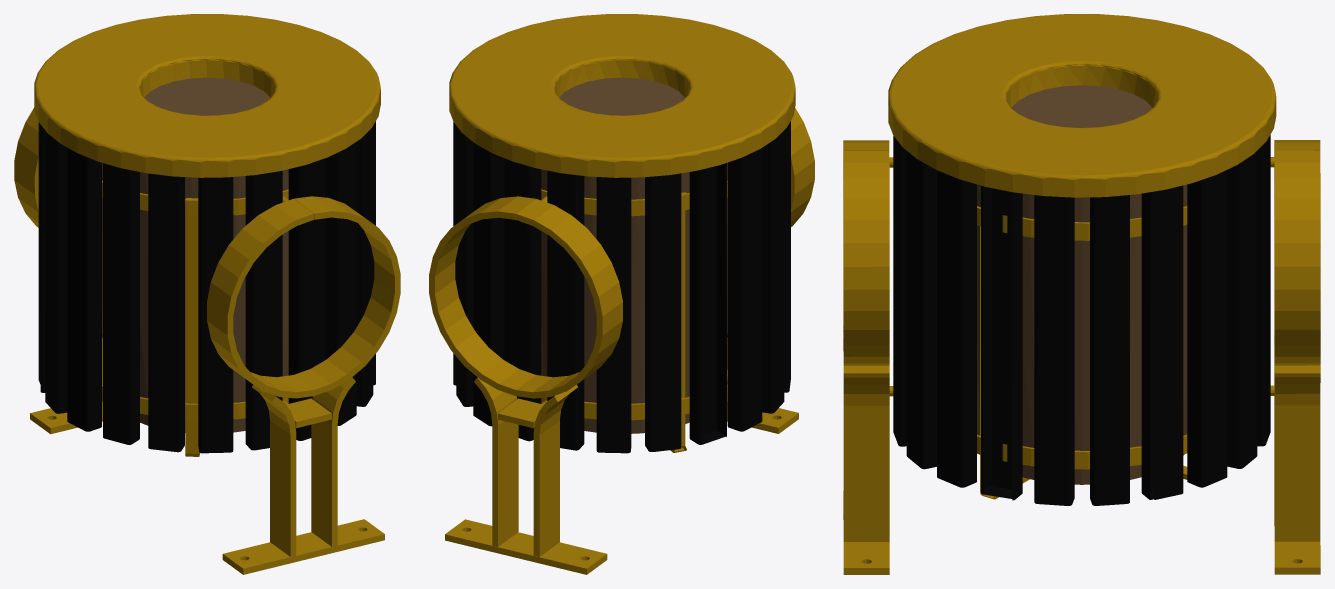
3 views of the same model, side by side, from view 1: azimuth 30°, elevation 25°; view 2: azimuth 150°, elevation 25°; view 3: azimuth 270°, elevation 25° (orthographic). The views are drawn at different scales.
Visible parts, largest first — view 1: mesh27.002_mesh27-geometry, mesh5.003_mesh5-geometry, mesh1.028_mesh1-geometry, mesh1.029_mesh1-geometry, mesh1.030_mesh1-geometry, mesh42.002_mesh42-geometry, mesh1.026_mesh1-geometry, mesh1.027_mesh1-geometry, mesh1.025_mesh1-geometry, mesh1.024_mesh1-geometry, mesh1.031_mesh1-geometry, mesh3.003_mesh3-geometry (+10 smaller); view 2: mesh27.002_mesh27-geometry, mesh5.004_mesh5-geometry, mesh42.002_mesh42-geometry, mesh1.032_mesh1-geometry, mesh1.033_mesh1-geometry, mesh1.031_mesh1-geometry, mesh1.035_mesh1-geometry, mesh1.034_mesh1-geometry, mesh1.036_mesh1-geometry, mesh1.037_mesh1-geometry, mesh1.030_mesh1-geometry, mesh4.004_mesh4-geometry (+11 smaller); view 3: mesh27.002_mesh27-geometry, mesh42.002_mesh42-geometry, mesh1.039_mesh1-geometry, mesh1.022_mesh1-geometry, mesh1.021_mesh1-geometry, mesh1.038_mesh1-geometry, mesh1.040_mesh1-geometry, mesh1.023_mesh1-geometry, mesh5.004_mesh5-geometry, mesh5.003_mesh5-geometry, mesh1.024_mesh1-geometry, mesh1.037_mesh1-geometry (+8 smaller).
Boxes of the visible parts, x1,y1,x2,y2 form: mesh27.002_mesh27-geometry: [34, 14, 380, 177]; mesh5.003_mesh5-geometry: [207, 196, 400, 398]; mesh1.028_mesh1-geometry: [148, 173, 184, 452]; mesh1.029_mesh1-geometry: [103, 163, 139, 444]; mesh1.030_mesh1-geometry: [67, 148, 101, 431]; mesh42.002_mesh42-geometry: [102, 77, 288, 432]; mesh1.026_mesh1-geometry: [245, 170, 282, 450]; mesh1.027_mesh1-geometry: [198, 177, 233, 453]; mesh1.025_mesh1-geometry: [288, 158, 325, 440]; mesh1.024_mesh1-geometry: [325, 142, 356, 425]; mesh1.031_mesh1-geometry: [45, 131, 67, 413]; mesh3.003_mesh3-geometry: [252, 384, 296, 556]; mesh27.002_mesh27-geometry: [449, 14, 795, 177]; mesh5.004_mesh5-geometry: [429, 196, 622, 398]; mesh42.002_mesh42-geometry: [541, 77, 727, 433]; mesh1.032_mesh1-geometry: [689, 163, 726, 444]; mesh1.033_mesh1-geometry: [645, 173, 681, 451]; mesh1.031_mesh1-geometry: [727, 148, 762, 431]; mesh1.035_mesh1-geometry: [547, 170, 584, 450]; mesh1.034_mesh1-geometry: [596, 177, 631, 453]; mesh1.036_mesh1-geometry: [504, 158, 541, 441]; mesh1.037_mesh1-geometry: [473, 142, 504, 426]; mesh1.030_mesh1-geometry: [762, 130, 784, 413]; mesh4.004_mesh4-geometry: [533, 384, 577, 556]; mesh27.002_mesh27-geometry: [888, 14, 1276, 197]; mesh42.002_mesh42-geometry: [977, 85, 1187, 484]; mesh1.039_mesh1-geometry: [1141, 185, 1183, 499]; mesh1.022_mesh1-geometry: [981, 185, 1022, 500]; mesh1.021_mesh1-geometry: [1034, 195, 1074, 505]; mesh1.038_mesh1-geometry: [1187, 170, 1227, 487]; mesh1.040_mesh1-geometry: [1090, 195, 1129, 505]; mesh1.023_mesh1-geometry: [937, 170, 976, 487]; mesh5.004_mesh5-geometry: [1274, 140, 1320, 365]; mesh5.003_mesh5-geometry: [843, 140, 889, 365]; mesh1.024_mesh1-geometry: [906, 151, 936, 469]; mesh1.037_mesh1-geometry: [1227, 151, 1257, 468].
Bounding box in the file's own units: 0.4951 × 0.6205 × 0.6082.
